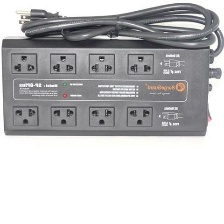three_eye_plug: (0, 35, 216, 139)
